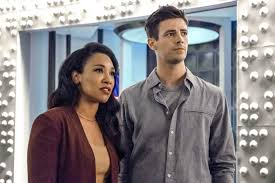Bad: (27, 5, 236, 183)
